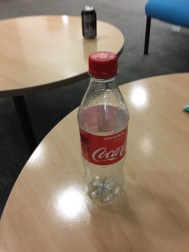bottle_red: (77, 52, 133, 213)
can_black: (75, 6, 106, 42)
